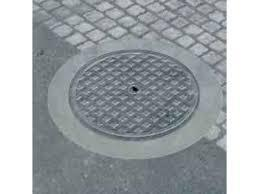closed manhole-not overflowing-: (64, 49, 210, 142)
